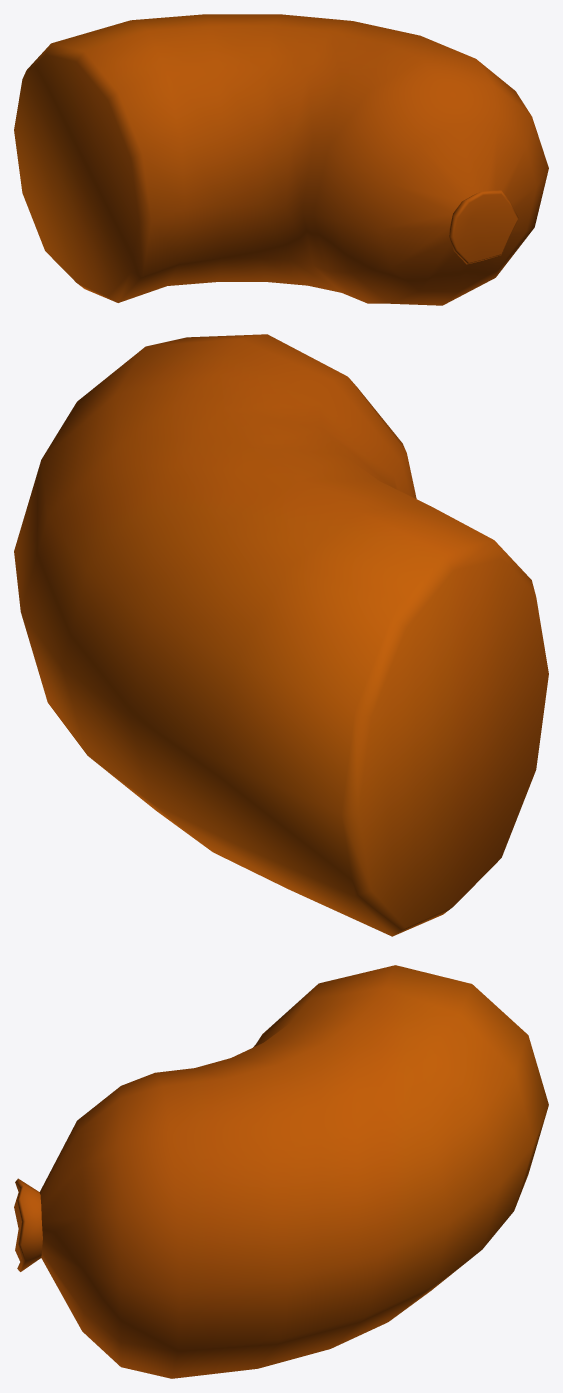
The model's file is Sausage_mini_03.fbx.
3 views of the same model, one above another, from view 1: azimuth 30°, elevation 25°; view 2: azimuth 150°, elevation 25°; view 3: azimuth 270°, elevation 25° (orthographic). The views are drawn at different scales.
Parts seen in each view (by area): view 1: Sausage_mini_03; view 2: Sausage_mini_03; view 3: Sausage_mini_03.
Boxes of the visible parts, box(x1,y1,x2,y2) form: Sausage_mini_03: box(14, 14, 548, 305); Sausage_mini_03: box(14, 334, 548, 936); Sausage_mini_03: box(14, 965, 548, 1378).
Bounding box in the file's own units: 73.27 × 82.68 × 48.1.
